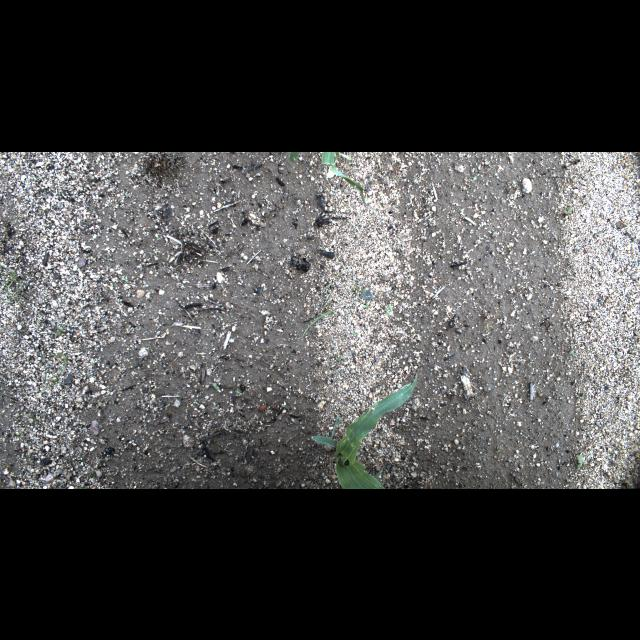crop: (311, 376, 417, 488), (288, 152, 369, 206)
weed: (302, 306, 352, 336), (322, 351, 356, 371), (41, 370, 71, 392), (348, 276, 368, 304), (2, 266, 24, 290), (1, 286, 26, 304), (323, 282, 337, 306), (52, 352, 68, 372), (560, 204, 574, 220), (576, 454, 588, 470), (26, 413, 46, 421), (52, 324, 64, 336), (12, 432, 24, 442), (385, 304, 395, 316), (568, 343, 578, 355), (85, 469, 96, 477), (212, 382, 220, 391), (362, 300, 370, 308), (212, 442, 220, 450), (235, 390, 242, 396), (122, 276, 128, 282), (352, 330, 358, 336), (496, 446, 502, 452), (57, 190, 61, 198), (34, 176, 40, 180), (194, 400, 198, 404), (156, 237, 160, 240)
